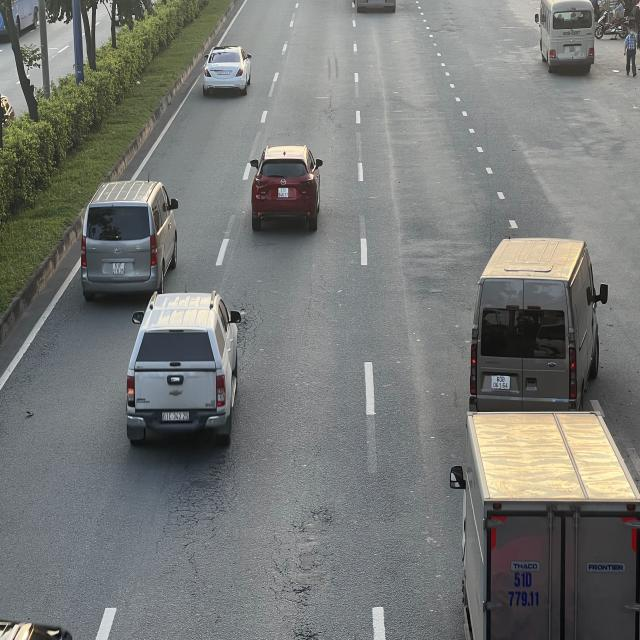car: (126, 290, 248, 445), (80, 178, 181, 298), (250, 144, 324, 231), (201, 48, 251, 98)
coach: (537, 0, 598, 71)
truck: (453, 411, 640, 640)
van: (470, 238, 610, 423)
